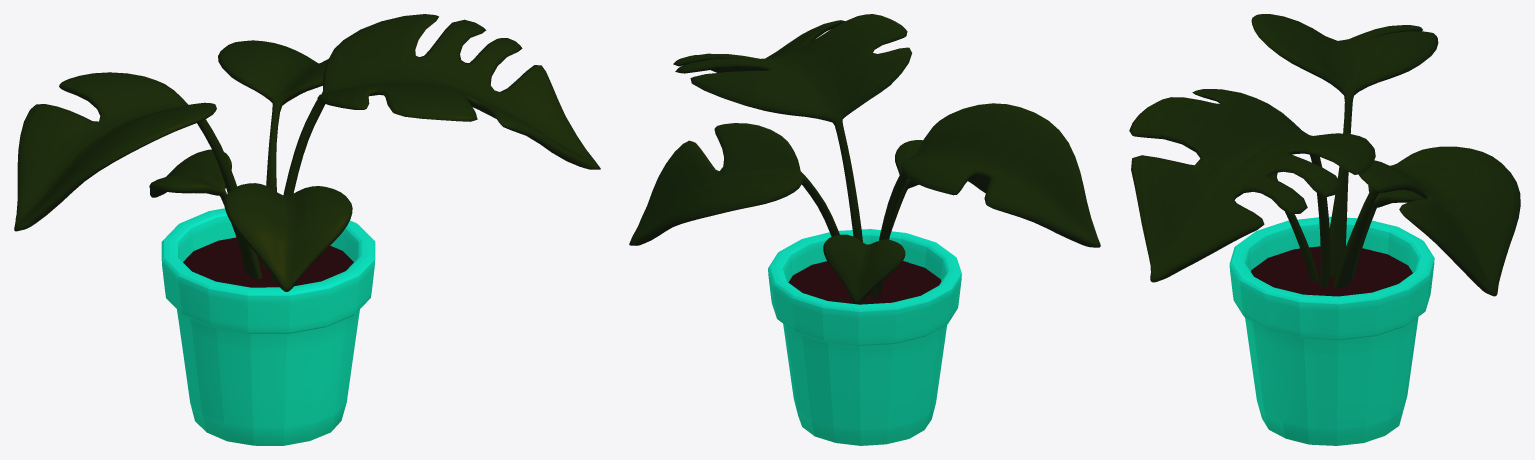
The model's file is plant.glb.
3 renders of one model, left to right at view 1: azimuth 30°, elevation 25°; view 2: azimuth 150°, elevation 25°; view 3: azimuth 270°, elevation 25°, orthographic. The views are drawn at different scales.
Parts seen in each view (by area): view 1: room1_plant; view 2: room1_plant; view 3: room1_plant.
Boxes of the visible parts, x1,y1,x2,y2 form: room1_plant: [14, 14, 600, 445]; room1_plant: [629, 14, 1100, 445]; room1_plant: [1129, 14, 1520, 445].
Bounding box in the file's own units: 2.97 × 2.09 × 2.15.
Materials: 1 (1 with a texture image).
